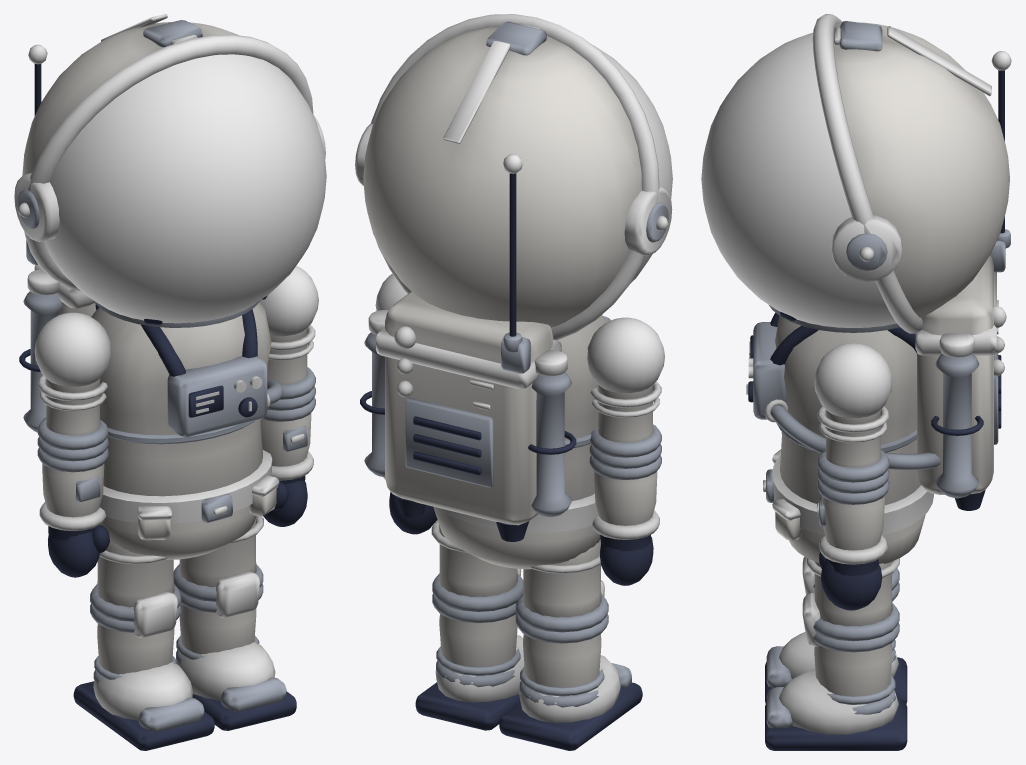
File: astronaut.glb
3 renders of one model, left to right at view 1: azimuth 30°, elevation 25°; view 2: azimuth 150°, elevation 25°; view 3: azimuth 270°, elevation 25°, orthographic.
Parts seen in each view (by area): view 1: head, torso, shinL, armL, shinR, legL, armR, forearmL, legR, forearmR; view 2: head, torso, shinL, armL, shinR, legL, forearmL, legR, forearmR, armR; view 3: head, torso, shinR, armR, forearmR, legR, shinL, legL.
Boxes of the visible parts, x1,y1,x2,y2 form: head: (14,14,326,327); torso: (19,44,283,559); shinL: (73,624,214,750); armL: (34,312,110,472); shinR: (176,604,296,730); legL: (90,541,181,637); armR: (260,266,318,421); forearmL: (39,463,109,577); legR: (173,516,263,617); forearmR: (260,413,313,526); head: (355,14,672,340); torso: (360,154,610,569); shinL: (499,634,642,750); armL: (587,317,664,479); shinR: (415,614,524,730); legL: (515,539,608,643); forearmL: (592,471,659,585); legR: (431,520,523,623); forearmR: (383,477,437,534); armR: (375,273,407,310); head: (701,14,1009,333); torso: (746,51,1011,563); shinR: (765,643,907,750); armR: (814,343,892,504); forearmR: (817,496,887,610); legR: (802,558,899,652); shinL: (765,632,907,703); legL: (802,556,899,601).
Bounding box in the file's own units: 0.918 × 1.97 × 0.806.
